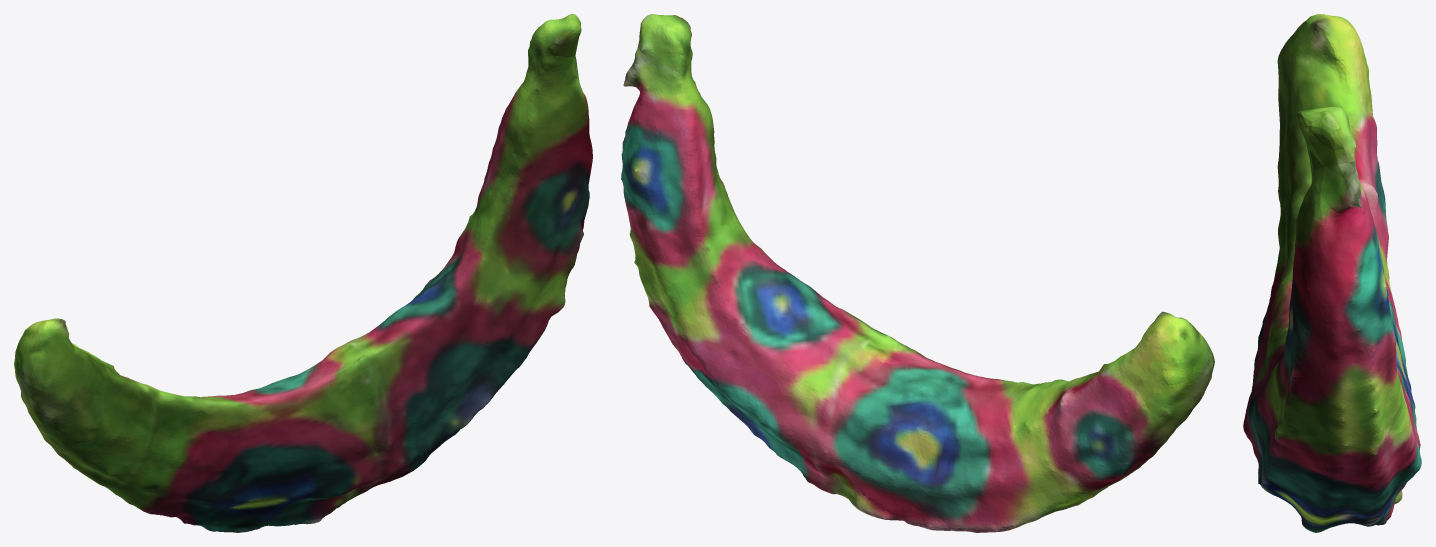
File: Banana.glb
The picture shows the model from 3 angles, left to right: view 1: azimuth 30°, elevation 25°; view 2: azimuth 150°, elevation 25°; view 3: azimuth 270°, elevation 25°; orthographic projection. The views are drawn at different scales.
Parts seen in each view (by area): view 1: mesh.014; view 2: mesh.014; view 3: mesh.014.
Boxes of the visible parts, x1,y1,x2,y2 form: mesh.014: [14, 14, 592, 532]; mesh.014: [621, 14, 1214, 532]; mesh.014: [1243, 14, 1421, 532].
Size of the model in its own units: 0.3788 by 0.2759 by 0.0802.
1 material, 1 textured.
